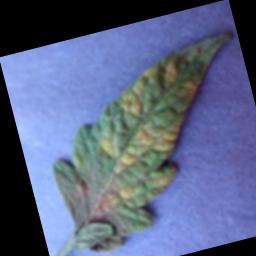Leaf_Mold: (69, 153, 193, 256), (102, 110, 192, 174), (113, 79, 152, 124), (138, 54, 183, 90), (180, 73, 209, 105), (96, 134, 118, 162)
